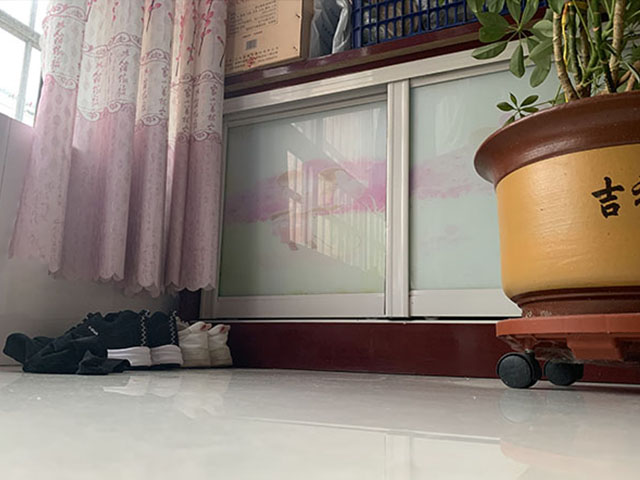cabinet: (224, 50, 639, 384)
curtain: (13, 1, 225, 296)
socks: (3, 331, 131, 376)
